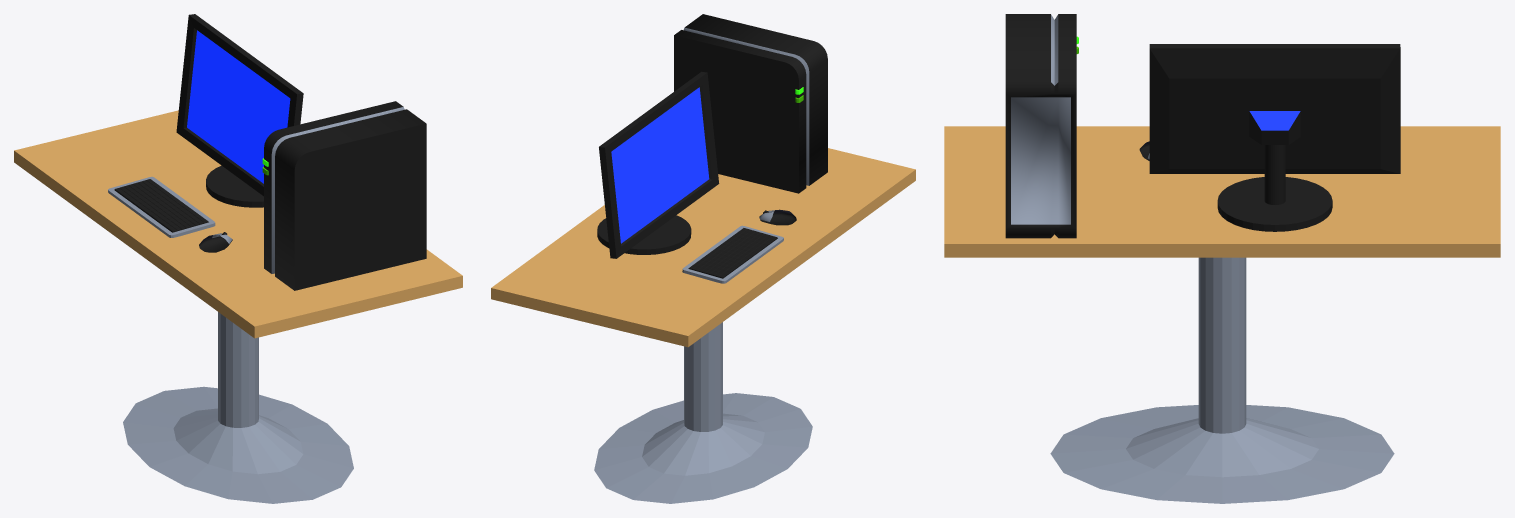
The model's file is office_table.fbx.
3 renders of one model, left to right at view 1: azimuth 30°, elevation 25°; view 2: azimuth 150°, elevation 25°; view 3: azimuth 270°, elevation 25°, orthographic. The views are drawn at different scales.
Visible parts, largest first — view 1: Cube.010, Cube.007, Cube.006, Plane; view 2: Cube.010, Cube.007, Cube.006, Plane, Cylinder.002; view 3: Cube.010, Cube.006, Cube.007.
Part boxes in pixels (x1,y1,x2,y2): Cube.010: [14, 110, 462, 503]; Cube.007: [262, 101, 426, 290]; Cube.006: [176, 14, 303, 207]; Plane: [108, 176, 215, 237]; Cube.010: [491, 148, 915, 503]; Cube.007: [674, 14, 827, 193]; Cube.006: [597, 71, 719, 258]; Plane: [682, 225, 783, 283]; Cylinder.002: [759, 209, 796, 225]; Cube.010: [944, 126, 1500, 503]; Cube.006: [1149, 44, 1400, 231]; Cube.007: [1005, 14, 1078, 238].
Bounding box in the file's own units: 100 × 169 × 200.
